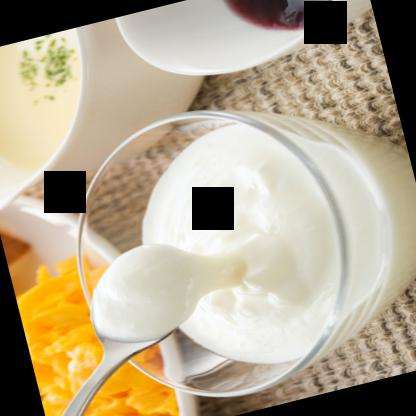yogurt: (59, 81, 415, 406)
